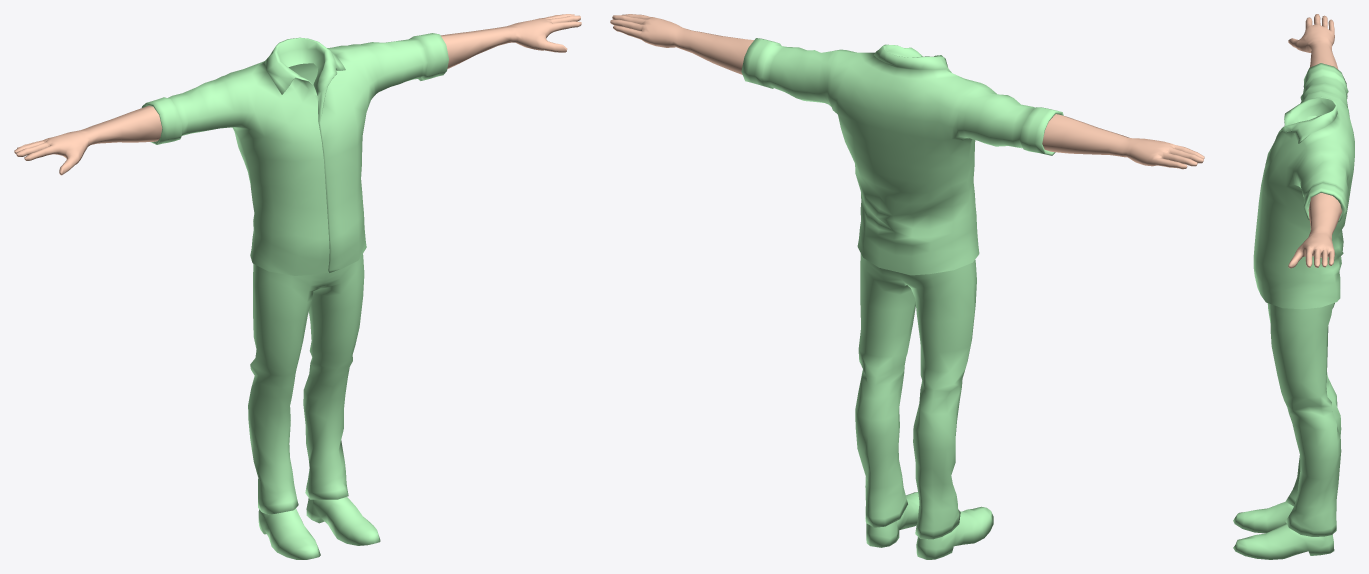
The model's file is ManCarlos.fbx.
The picture shows the model from 3 angles, left to right: view 1: azimuth 30°, elevation 25°; view 2: azimuth 150°, elevation 25°; view 3: azimuth 270°, elevation 25°; orthographic projection. The views are drawn at different scales.
Visible parts, largest first — view 1: ManCarlos_lod0; view 2: ManCarlos_lod0; view 3: ManCarlos_lod0.
Part boxes in pixels (x1=…): ManCarlos_lod0: x1=14, y1=14, x2=581, y2=559; ManCarlos_lod0: x1=610, y1=14, x2=1204, y2=559; ManCarlos_lod0: x1=1233, y1=14, x2=1354, y2=559.
Size of what is drawn, in the model's own units: 192 by 154 by 39.31.
